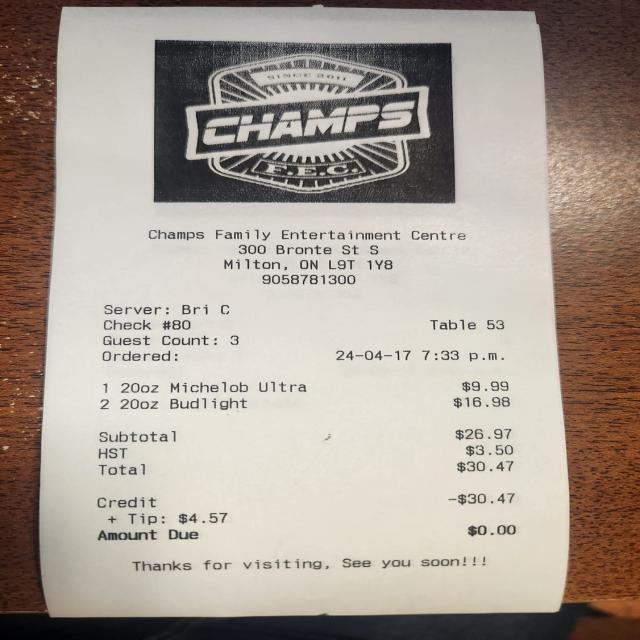item: (112, 394, 522, 412), (111, 378, 520, 396)
store_name: (138, 225, 478, 246)
total_amount: (93, 458, 522, 480)
transaction_date: (326, 345, 420, 366)
